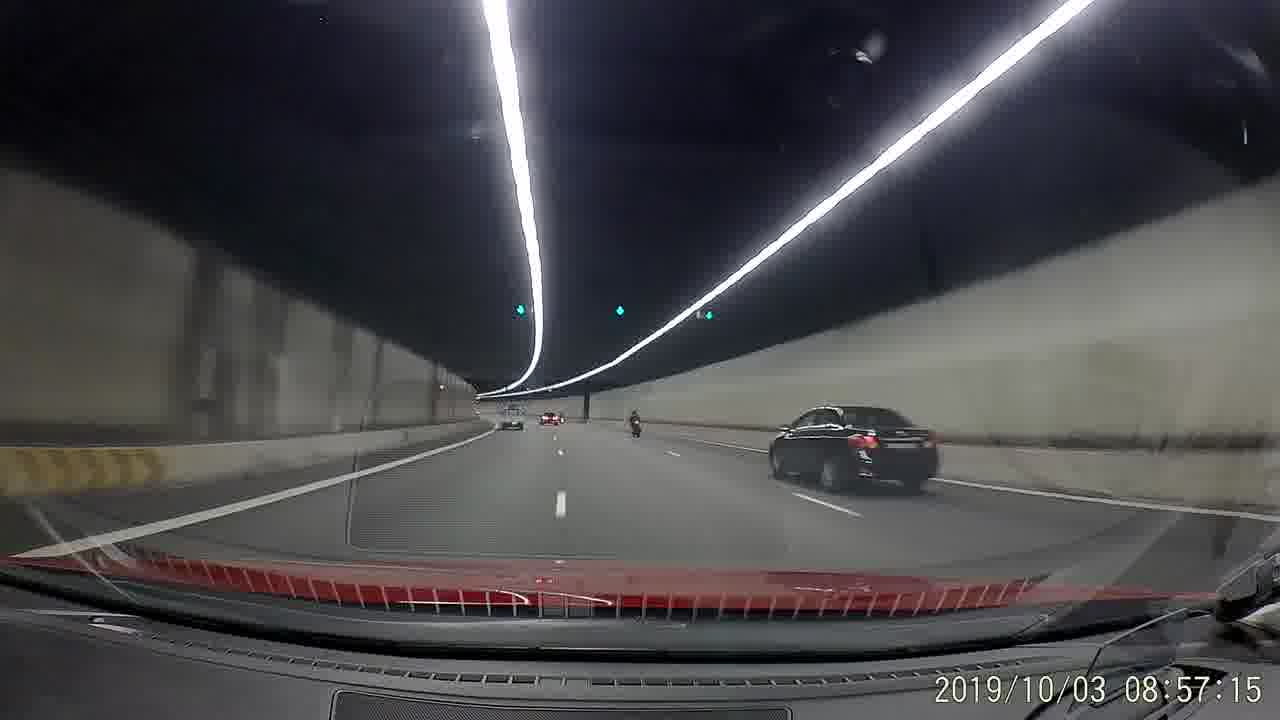car: (763, 399, 940, 495)
